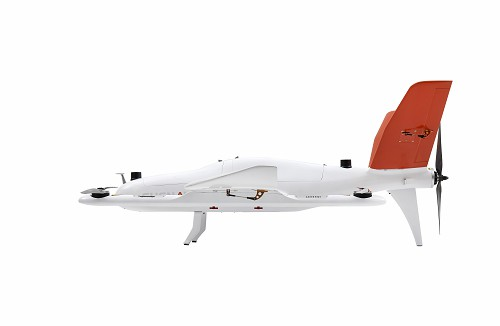maybay_khongnguoilai: (74, 83, 452, 249)
